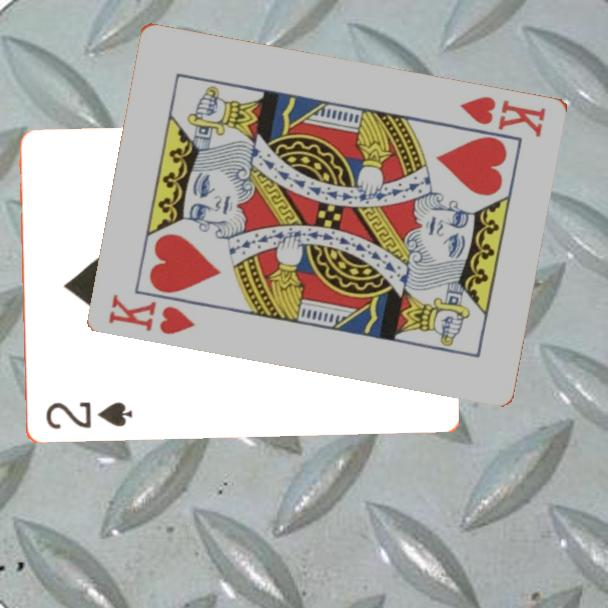h13: (456, 92, 550, 140), (105, 290, 199, 337)
s02: (42, 399, 135, 433)
